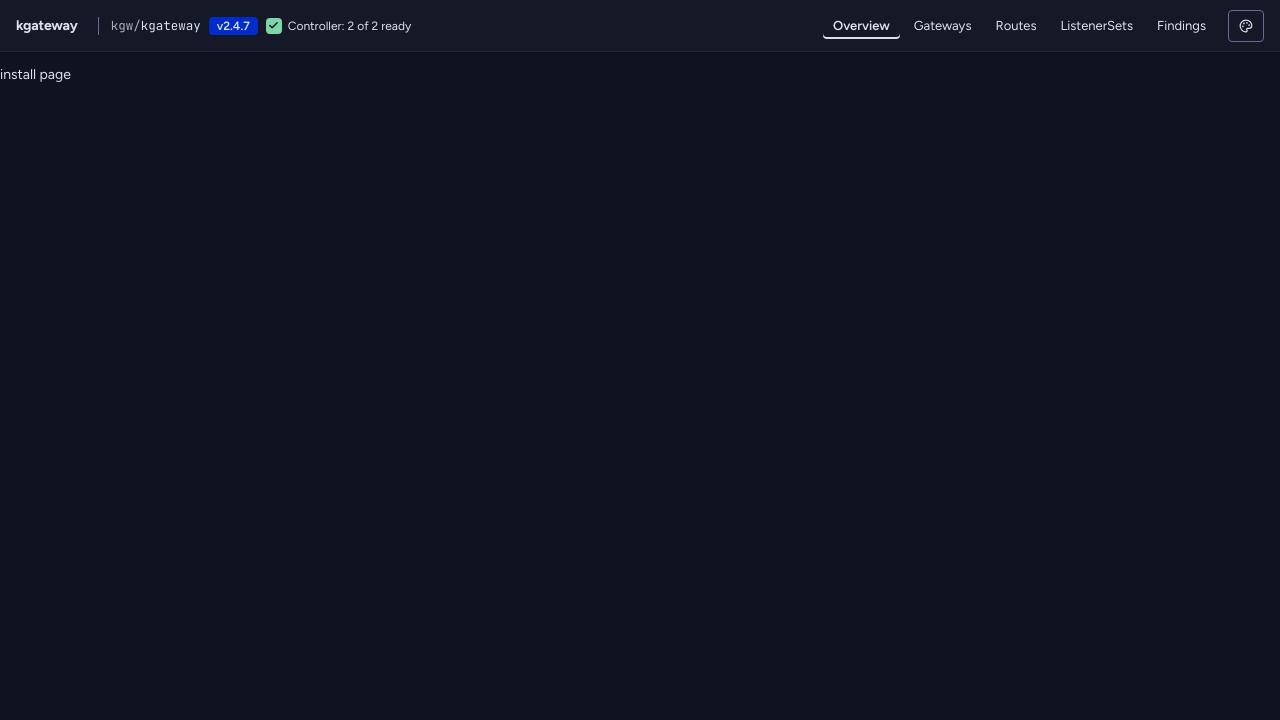
Test: a theme picked with the mouse leaves no tooltip behind
Click the button named "theme": {"x": 1246, "y": 26} [1228,10,1264,42]
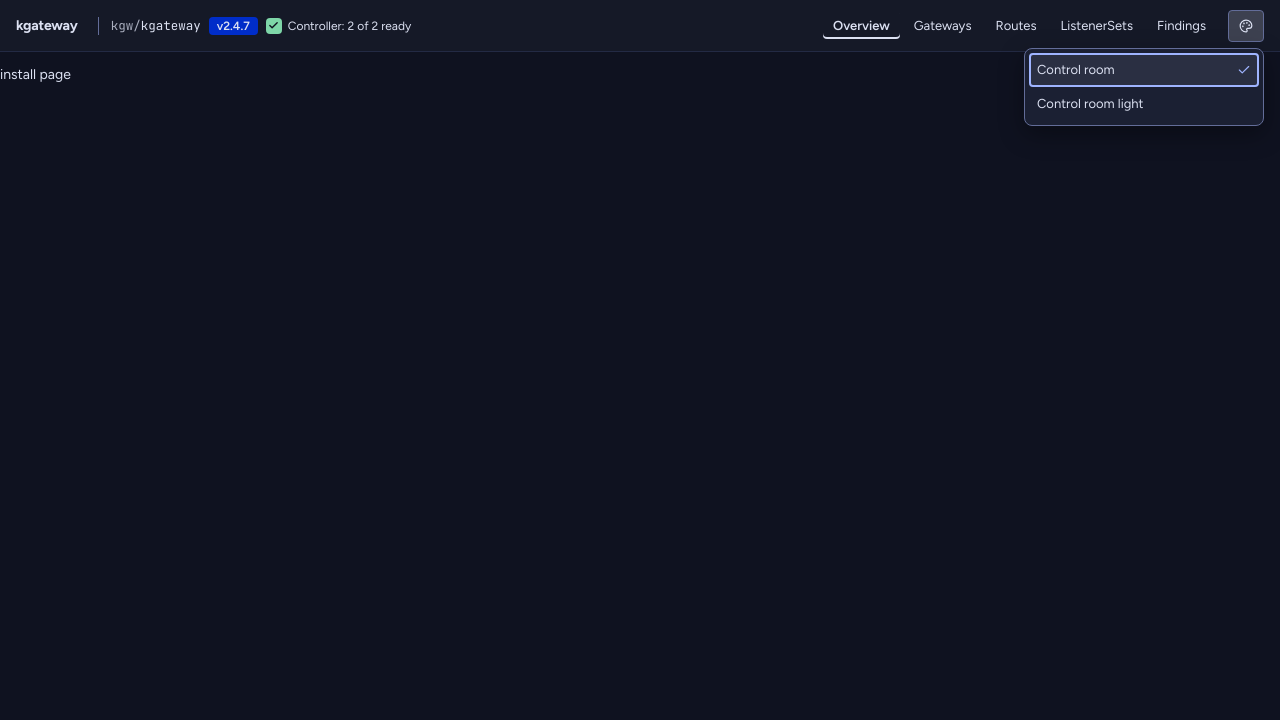
Click the menu item "Control room light": {"x": 1144, "y": 104} [1029,86,1259,120]
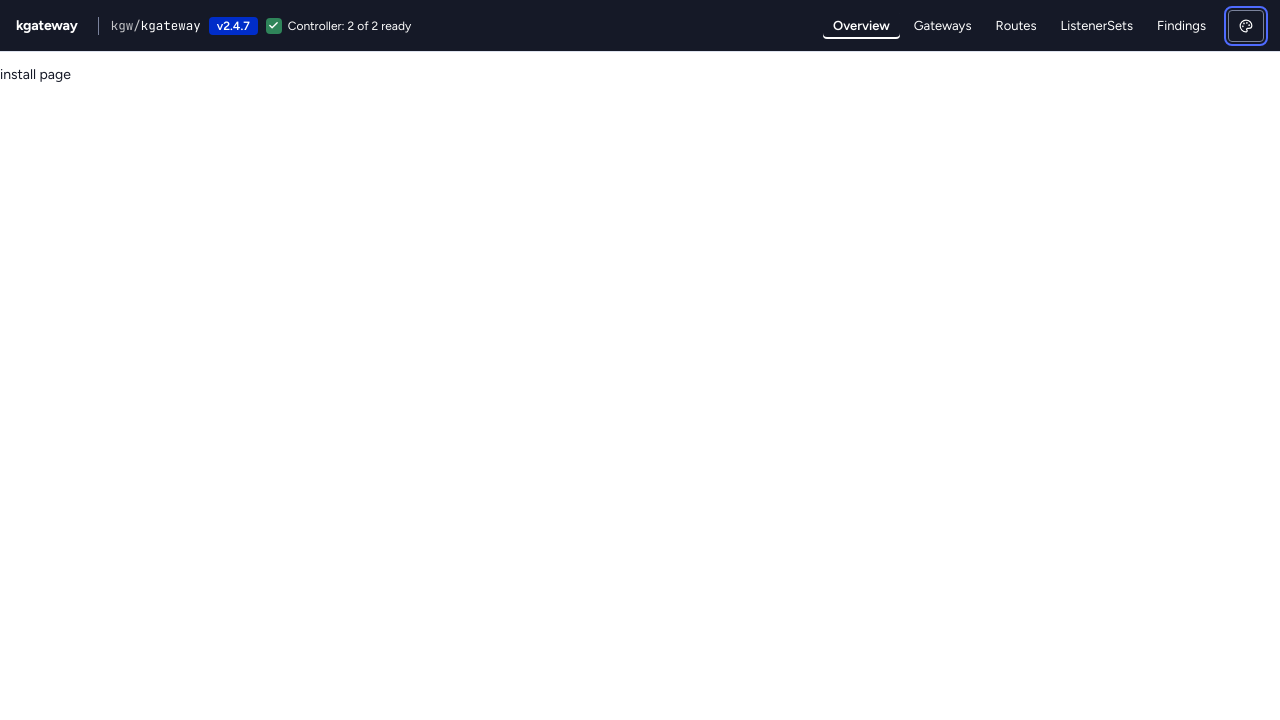
Expected: the menu is gone
